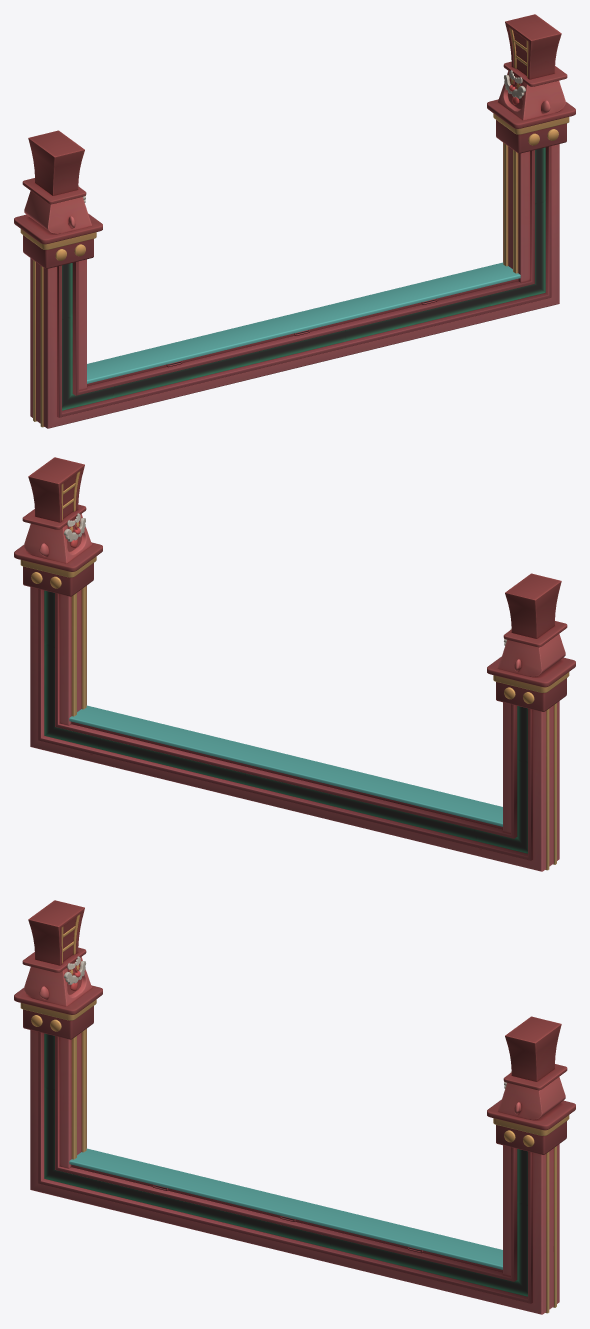
Rendered from SM_RG_AvoidWalls_Pillar.fbx.
3 renders of one model, top to bottom at view 1: azimuth 30°, elevation 25°; view 2: azimuth 150°, elevation 25°; view 3: azimuth 330°, elevation 25°, orthographic.
Parts seen in each view (by area): view 1: SM_RG_AvoidWalls_Pillar; view 2: SM_RG_AvoidWalls_Pillar; view 3: SM_RG_AvoidWalls_Pillar.
Part boxes in pixels (x1,y1,x2,y2): SM_RG_AvoidWalls_Pillar: (14,14,575,428); SM_RG_AvoidWalls_Pillar: (14,457,575,871); SM_RG_AvoidWalls_Pillar: (14,900,575,1314).
Bounding box in the file's own units: 5457 × 2687 × 587.
